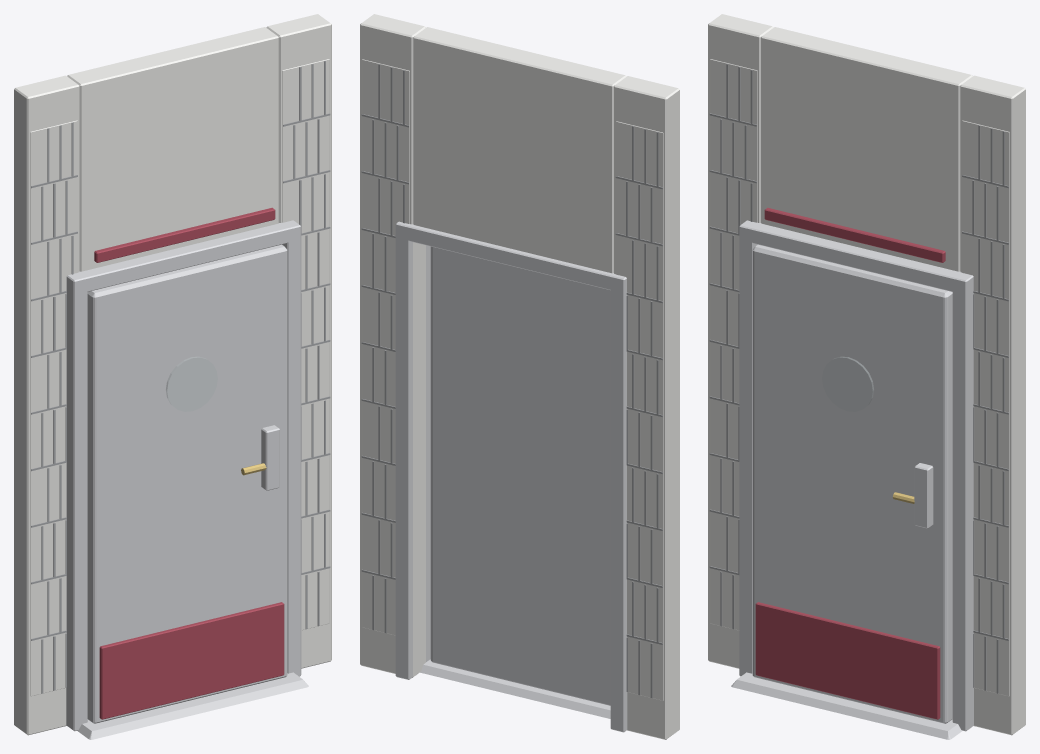
The model's file is butchers-shop-and-deli-counter-chiller-door-module-41e03f33__34458.glb.
3 views of the same model, side by side, from view 1: azimuth 30°, elevation 25°; view 2: azimuth 150°, elevation 25°; view 3: azimuth 330°, elevation 25° (orthographic).
Parts seen in each view (by area): view 1: chiller-door-module, chiller-door/metal, chiller-door/accent, chiller-door/glass; view 2: chiller-door-module, chiller-door/metal; view 3: chiller-door-module, chiller-door/metal, chiller-door/accent, chiller-door/glass.
Part boxes in pixels (x1,y1,x2,y2): chiller-door-module: (14,14,331,739); chiller-door/metal: (87,244,287,723); chiller-door/accent: (99,602,284,719); chiller-door/glass: (166,357,217,411); chiller-door-module: (360,14,679,739); chiller-door/metal: (430,246,610,705); chiller-door-module: (708,14,1025,739); chiller-door/metal: (752,244,952,723); chiller-door/accent: (755,602,940,719); chiller-door/glass: (822,357,873,411).
Size of the model in its own units: 1.5 by 3 by 0.3149.
